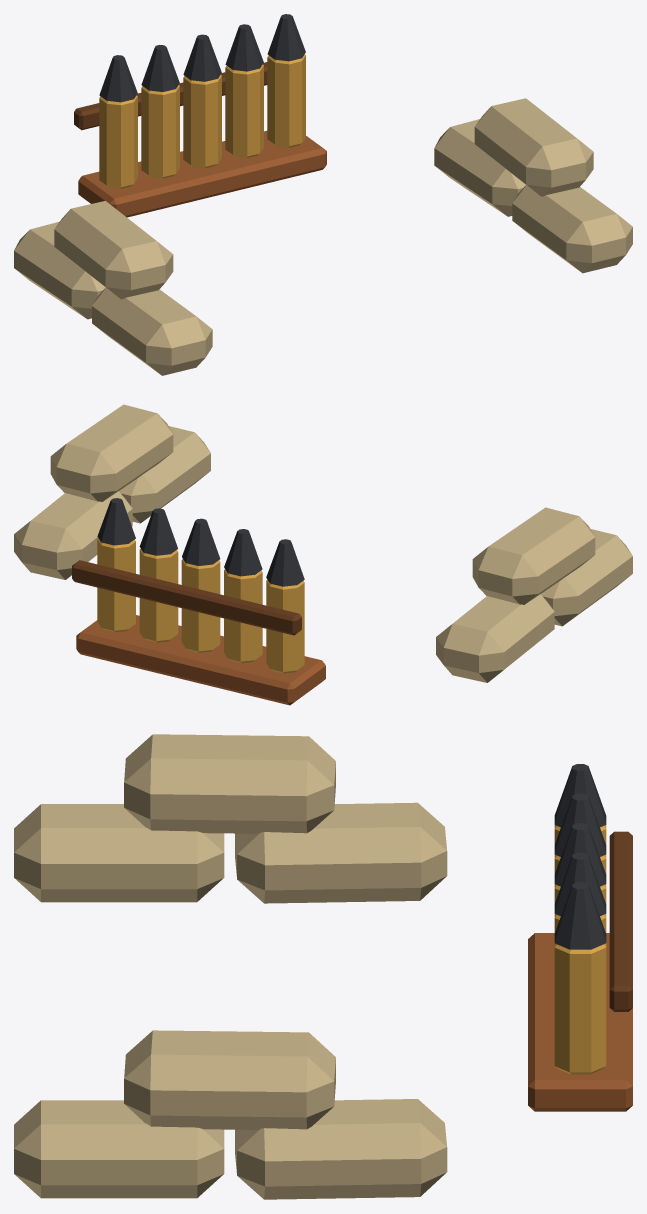
Rendered from GunDressB2.obj.
3 renders of one model, top to bottom at view 1: azimuth 30°, elevation 25°; view 2: azimuth 150°, elevation 25°; view 3: azimuth 270°, elevation 25°, orthographic. The views are drawn at different scales.
Parts seen in each view (by area): view 1: GunDressB2; view 2: GunDressB2; view 3: GunDressB2.
Part boxes in pixels (<box>): GunDressB2: <box>14,14,632,375</box>; GunDressB2: <box>14,404,632,705</box>; GunDressB2: <box>14,734,632,1199</box>.
Size of the model in its own units: 1.4 by 0.4 by 1.06.
